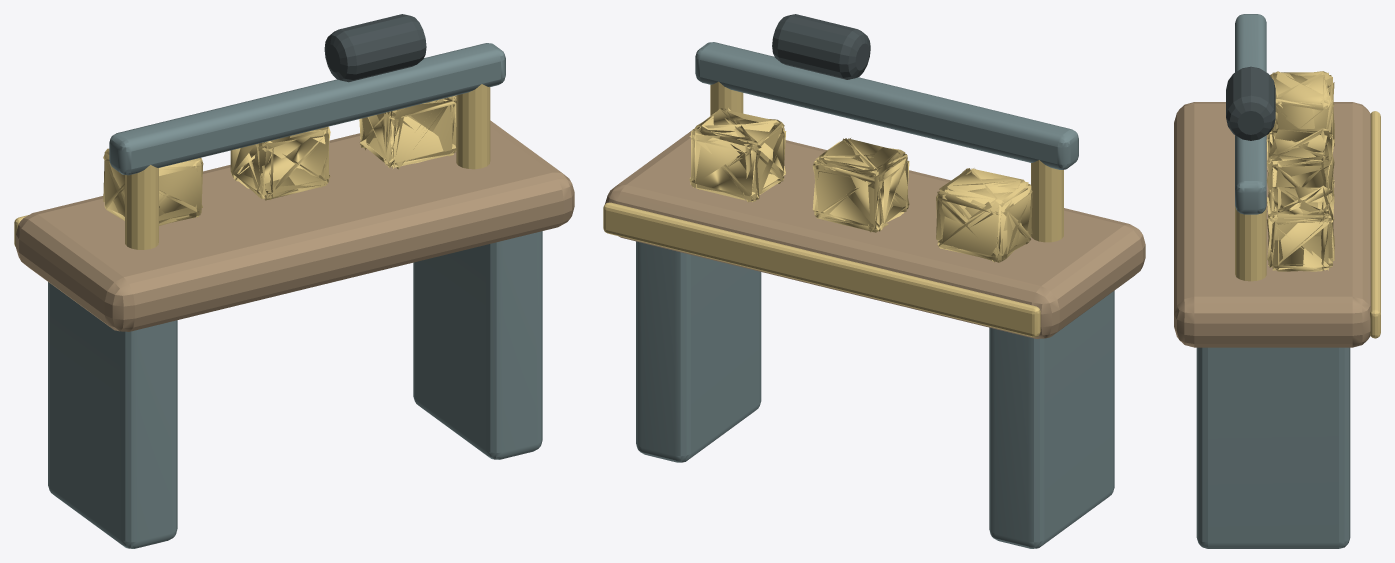
File: station_ranger.glb
3 renders of one model, left to right at view 1: azimuth 30°, elevation 25°; view 2: azimuth 150°, elevation 25°; view 3: azimuth 270°, elevation 25°, orthographic. The views are drawn at different scales.
Visible parts, largest first — view 1: Surface_WorldMetal, Surface_WorldWood, Surface_WorldBrass, SupplyToken1, SupplyToken2, Surface_Rubber, SupplyToken0; view 2: Surface_WorldMetal, Surface_WorldWood, Surface_WorldBrass, SupplyToken0, SupplyToken1, SupplyToken2, Surface_Rubber; view 3: Surface_WorldMetal, Surface_WorldWood, SupplyToken2, Surface_WorldBrass, SupplyToken1, SupplyToken0, Surface_Rubber.
Part boxes in pixels (box(x1,y1,x2,y2)): Surface_WorldMetal: box(48, 43, 542, 548); Surface_WorldWood: box(16, 120, 574, 331); Surface_WorldBrass: box(14, 84, 490, 249); SupplyToken1: box(230, 126, 330, 200); SupplyToken2: box(359, 95, 456, 169); Surface_Rubber: box(324, 14, 426, 82); SupplyToken0: box(103, 148, 203, 225); Surface_WorldMetal: box(636, 42, 1114, 548); Surface_WorldWood: box(605, 128, 1145, 338); Surface_WorldBrass: box(603, 81, 1063, 337); SupplyToken0: box(936, 168, 1032, 262); SupplyToken1: box(812, 138, 909, 232); SupplyToken2: box(689, 108, 786, 202); Surface_Rubber: box(772, 14, 870, 79); Surface_WorldMetal: box(1196, 14, 1350, 548); Surface_WorldWood: box(1174, 102, 1370, 347); SupplyToken2: box(1266, 186, 1334, 271); Surface_WorldBrass: box(1235, 111, 1380, 338); SupplyToken1: box(1266, 128, 1334, 202); SupplyToken0: box(1266, 71, 1334, 146); Surface_Rubber: box(1226, 66, 1275, 140).
Size of the model in its own units: 1.1 by 0.995 by 0.4575.
